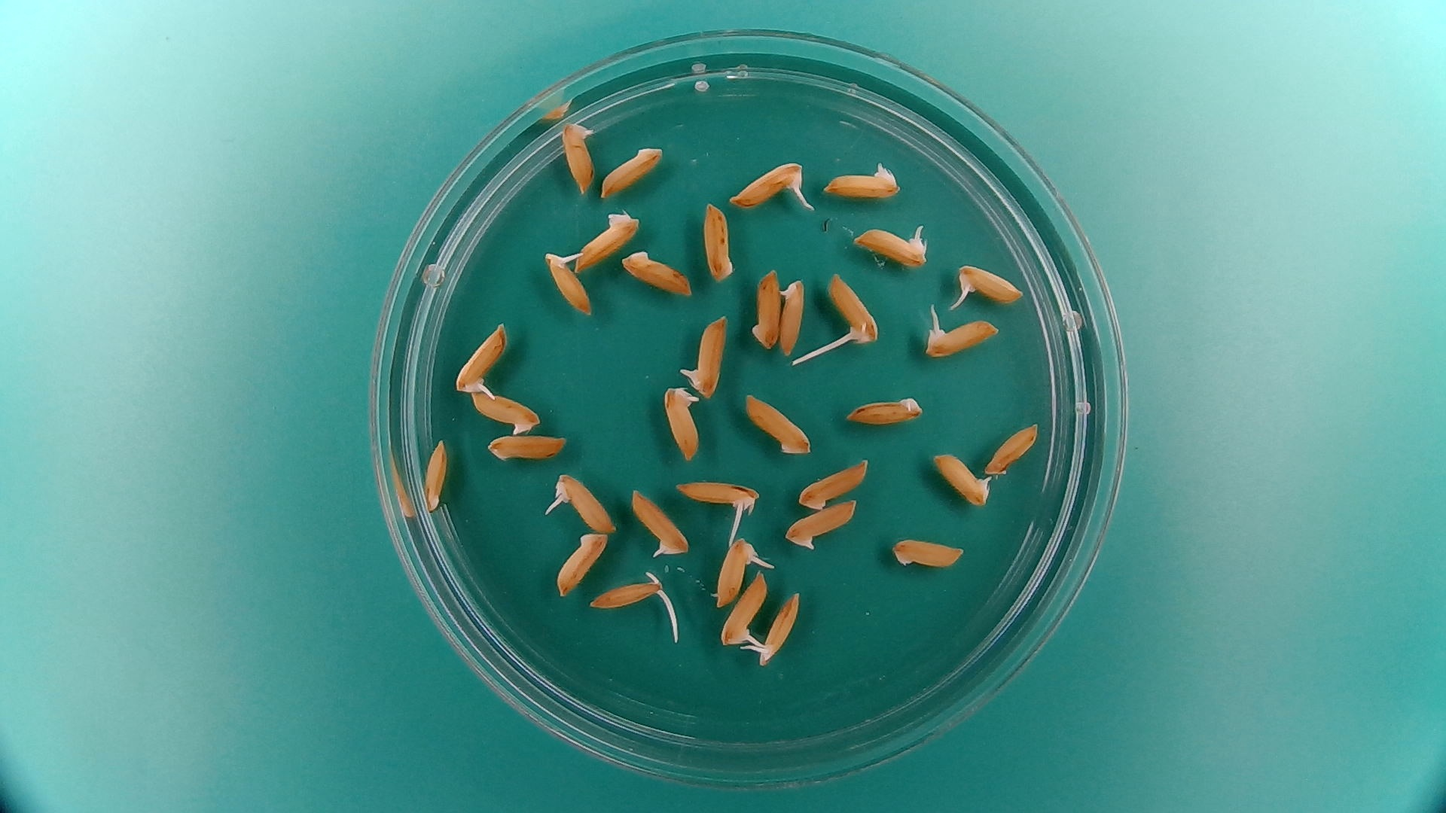no: (572, 208, 642, 271), (741, 394, 813, 455), (783, 495, 861, 550), (796, 453, 871, 510), (619, 248, 699, 300), (554, 528, 612, 598), (465, 389, 542, 434), (597, 145, 660, 199), (984, 419, 1042, 477), (700, 196, 737, 284), (843, 390, 926, 429), (749, 263, 782, 352), (558, 122, 597, 197), (486, 431, 571, 464), (824, 166, 900, 202), (888, 537, 963, 571), (421, 435, 450, 515), (779, 279, 807, 358)
yes: (627, 485, 691, 559), (453, 321, 509, 397), (552, 472, 620, 534), (717, 568, 768, 650), (828, 271, 881, 348), (541, 246, 595, 318), (757, 586, 804, 666), (733, 163, 808, 211), (932, 449, 993, 507), (683, 314, 725, 397), (850, 228, 932, 269), (660, 383, 702, 461), (956, 263, 1027, 309), (921, 318, 999, 359), (717, 536, 758, 609), (587, 577, 668, 612), (676, 480, 760, 510)
